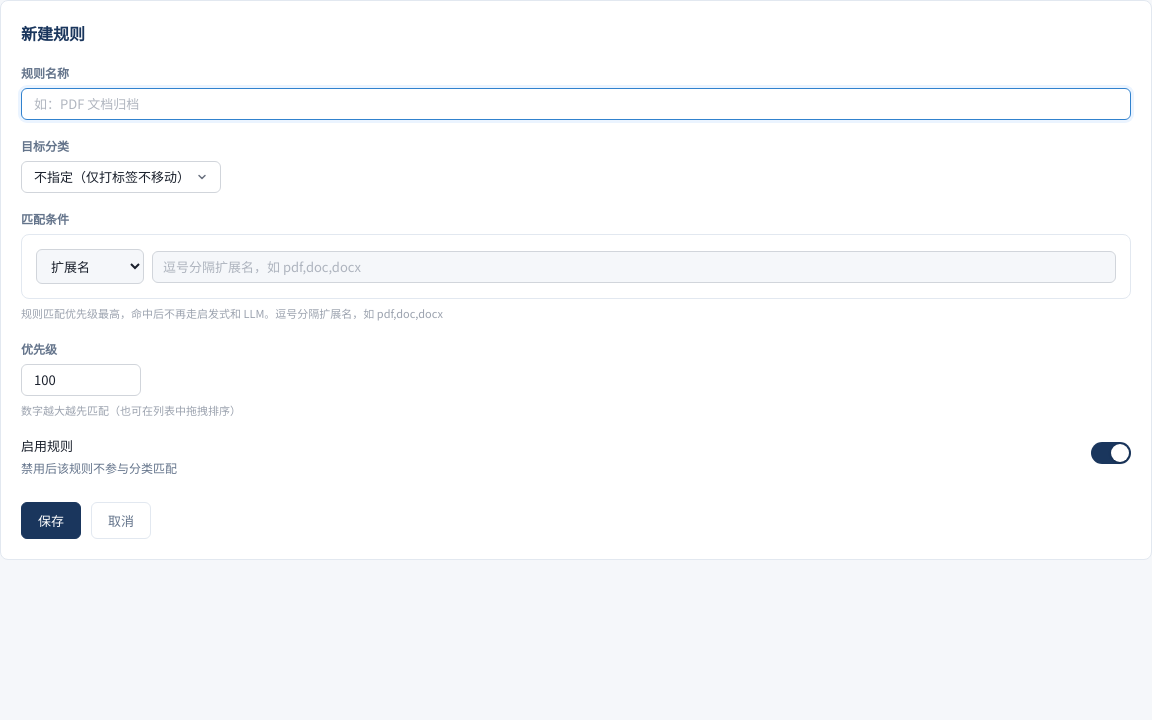
Test: RuleForm › validates empty rule name
The image size is (1152, 720).
Type "pdf" into the field named "匹配模式" at (634, 267), box [152, 251, 1116, 283]
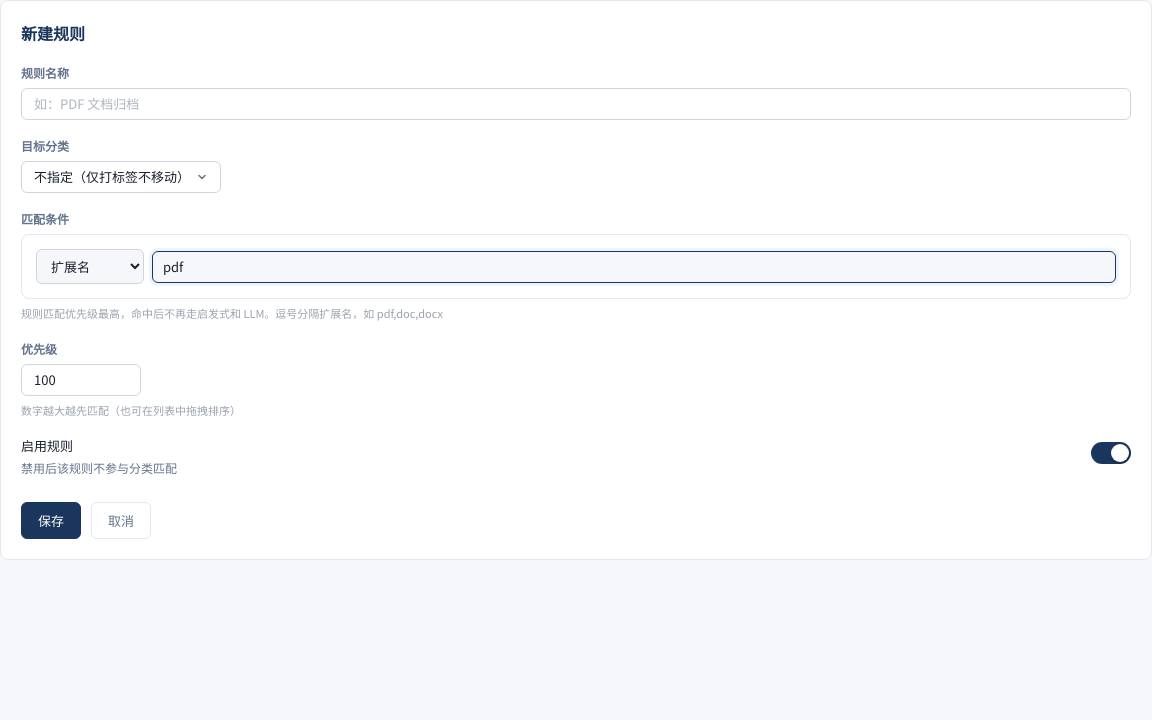
Click the button "保存" at (51, 520), box [21, 502, 81, 538]
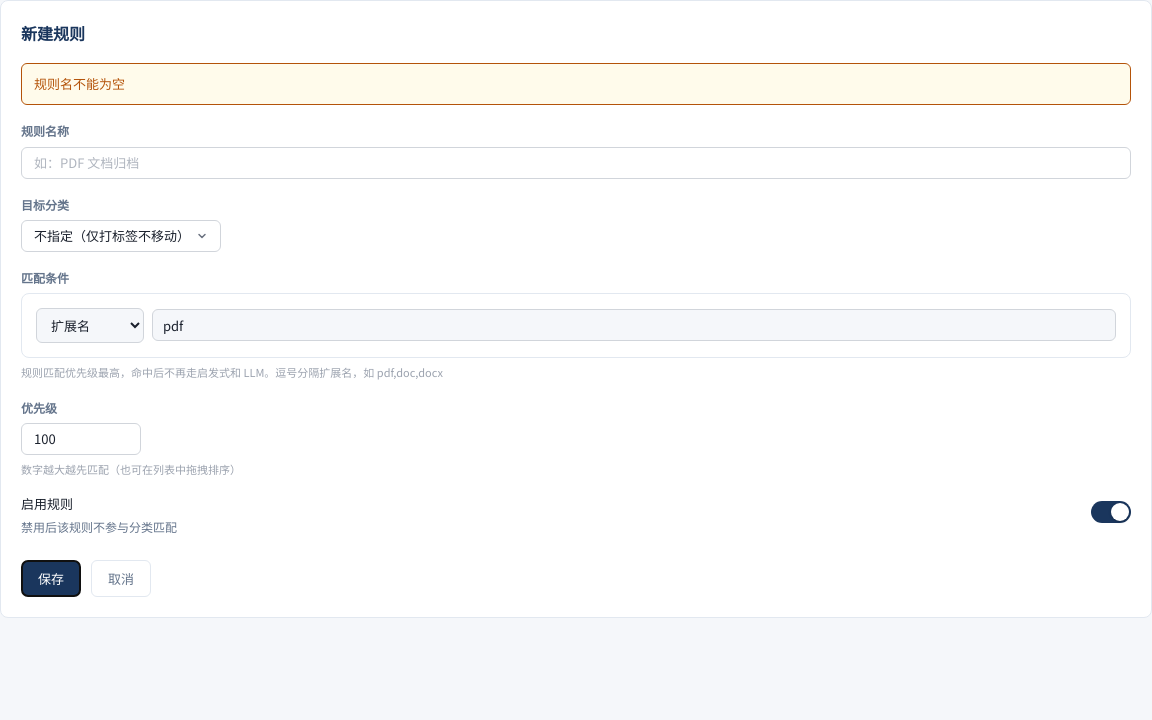
Now the message reads "规则名不能为空", box [34, 74, 125, 93]
